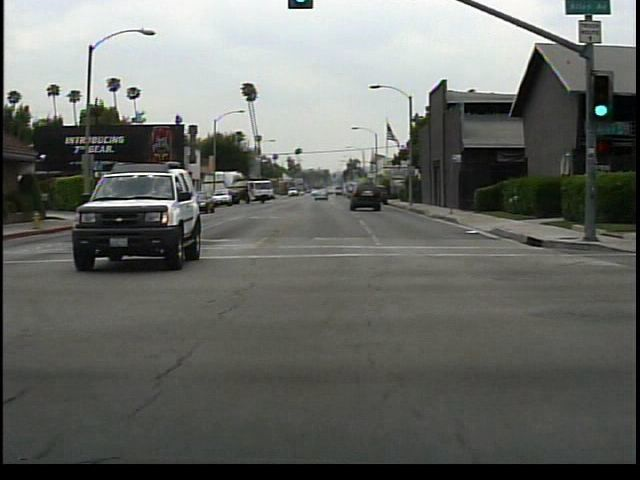person: (104, 182, 124, 218)
